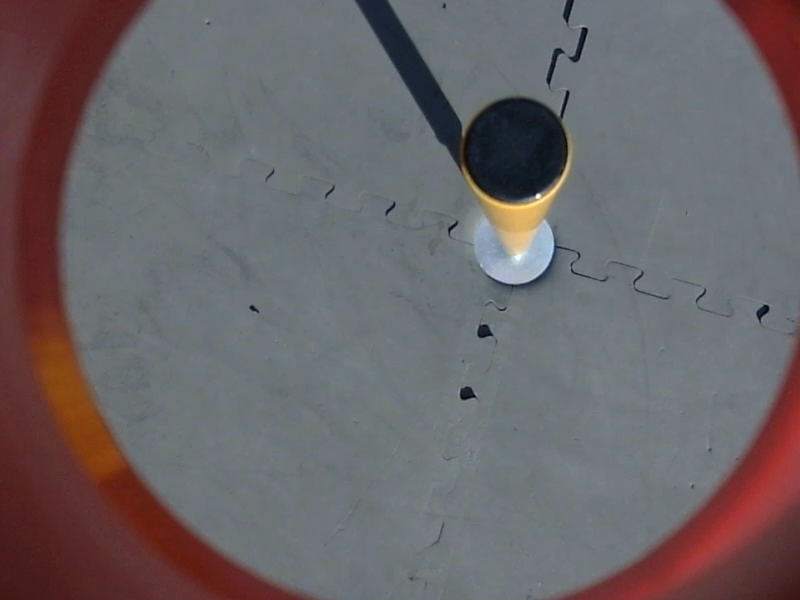tip: (458, 89, 578, 213)
